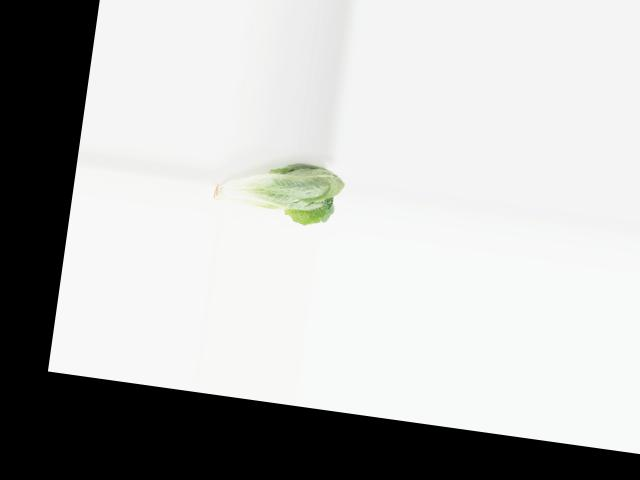lettuce: (205, 147, 347, 231)
